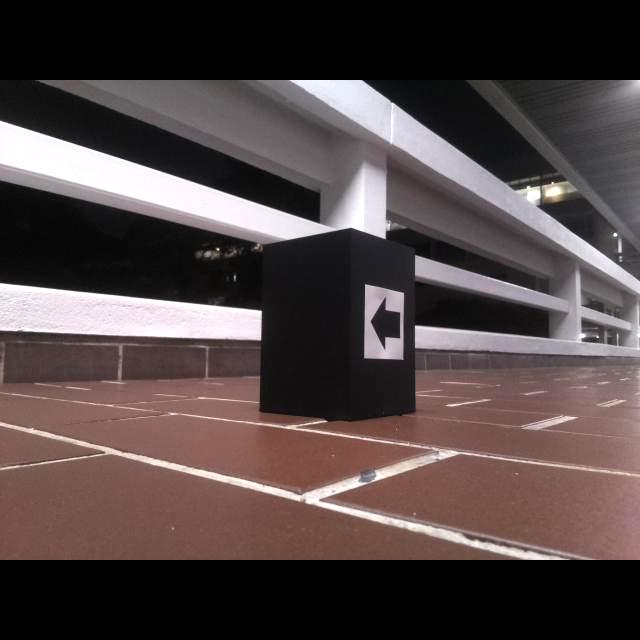LEFT: (369, 296, 400, 351)
